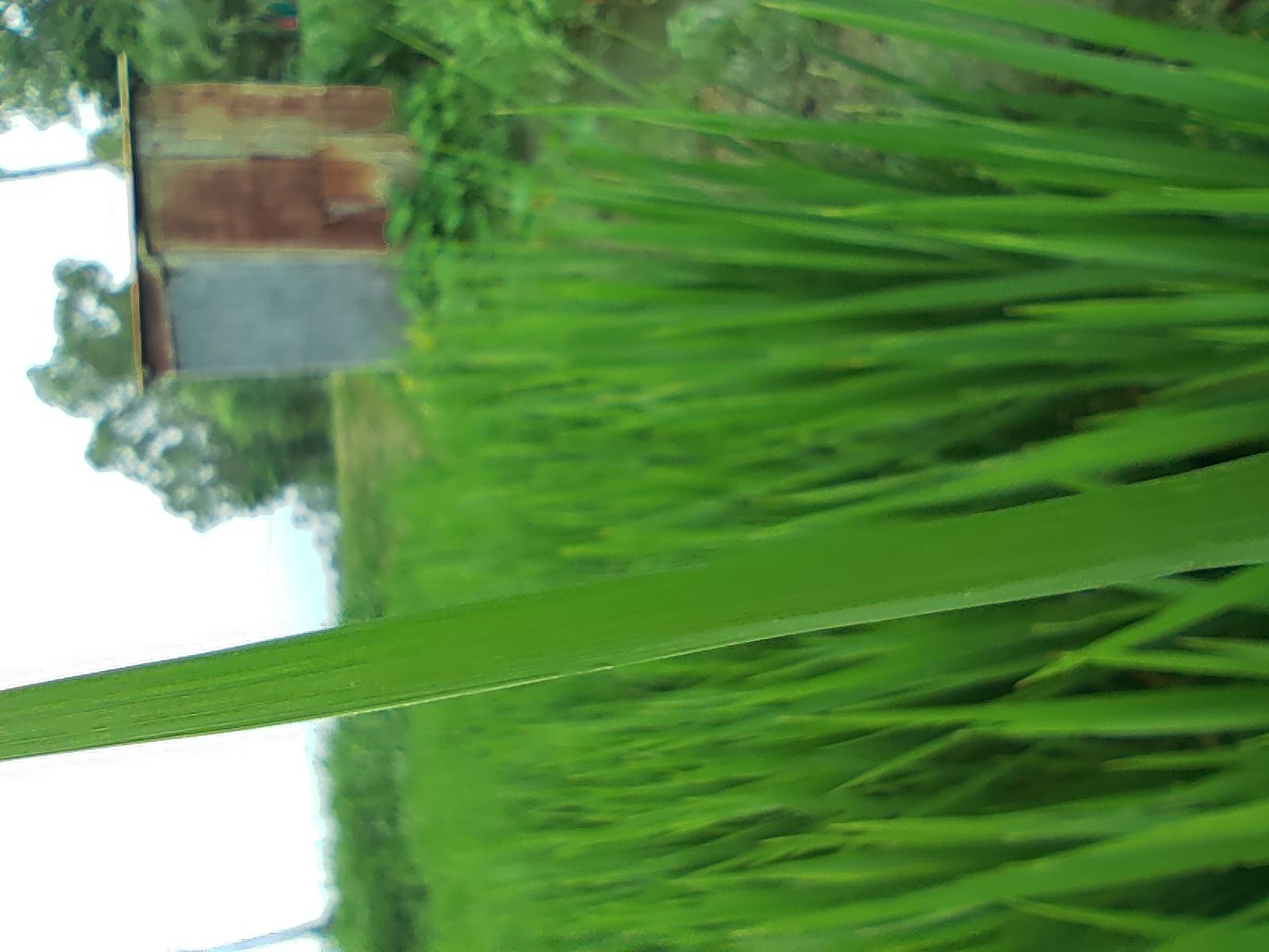Healthy: (254, 0, 661, 951)
